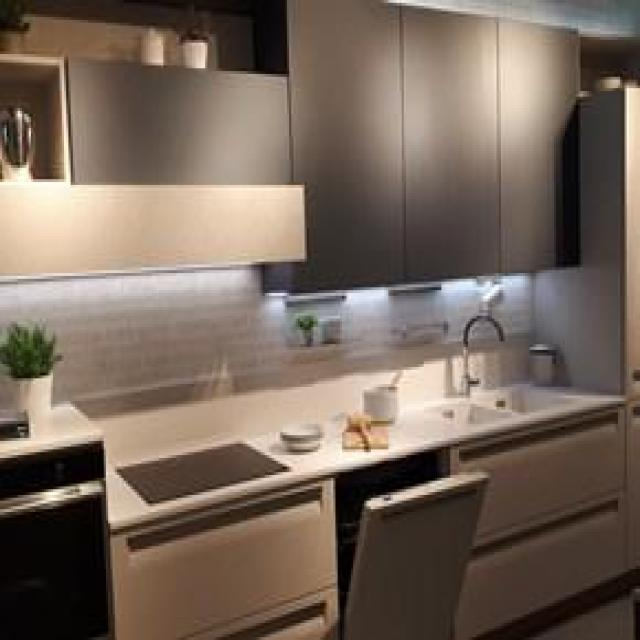dishwasher: (336, 444, 492, 637)
